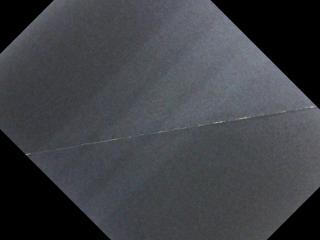crack: (24, 104, 318, 157)
